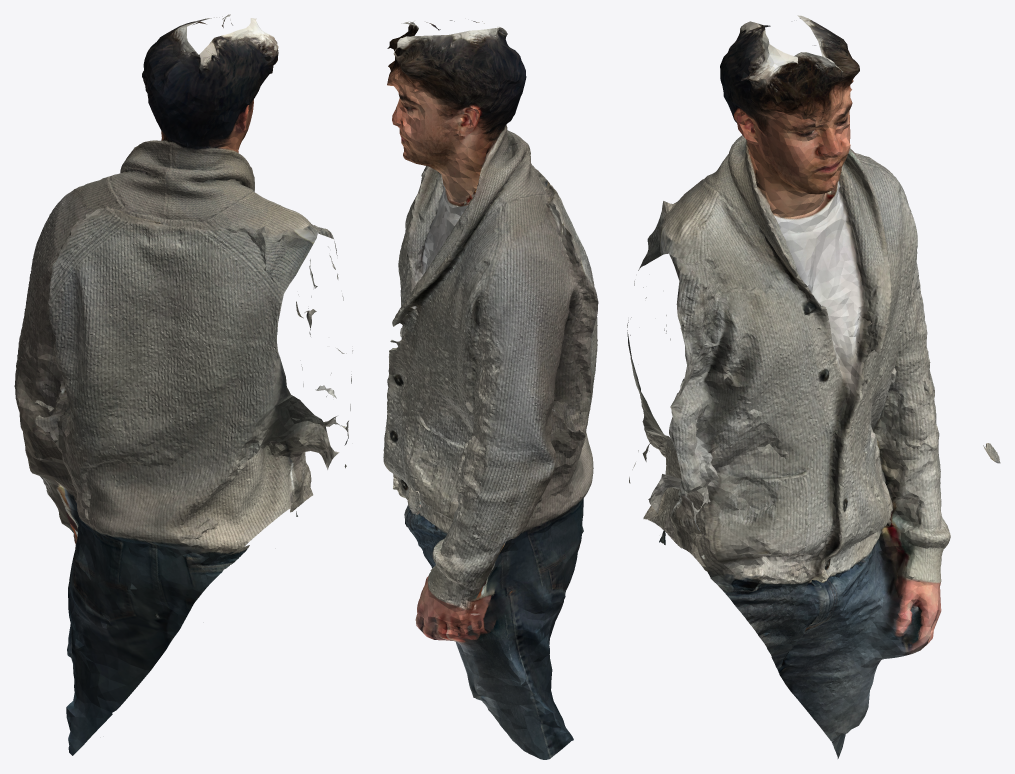
File: Model 1 (Processed).glb
3 views of the same model, side by side, from view 1: azimuth 30°, elevation 25°; view 2: azimuth 150°, elevation 25°; view 3: azimuth 270°, elevation 25° (orthographic). The views are drawn at different scales.
Parts seen in each view (by area): view 1: Mesh_0; view 2: Mesh_0; view 3: Mesh_0.
Part boxes in pixels (x1,y1,x2,y2): Mesh_0: [14, 14, 352, 755]; Mesh_0: [383, 20, 598, 759]; Mesh_0: [627, 15, 1000, 758].
Size of the model in its own units: 1.2 by 3.25 by 1.39.
Materials: 1 (1 with a texture image).
